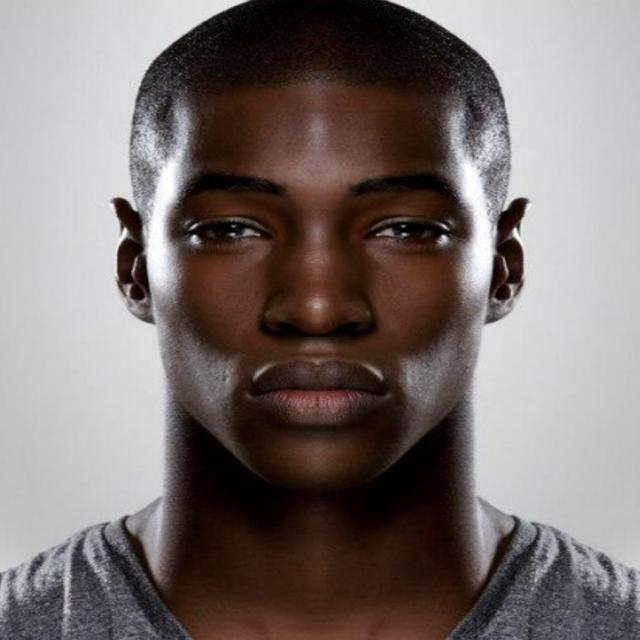front: (171, 142, 486, 439)
